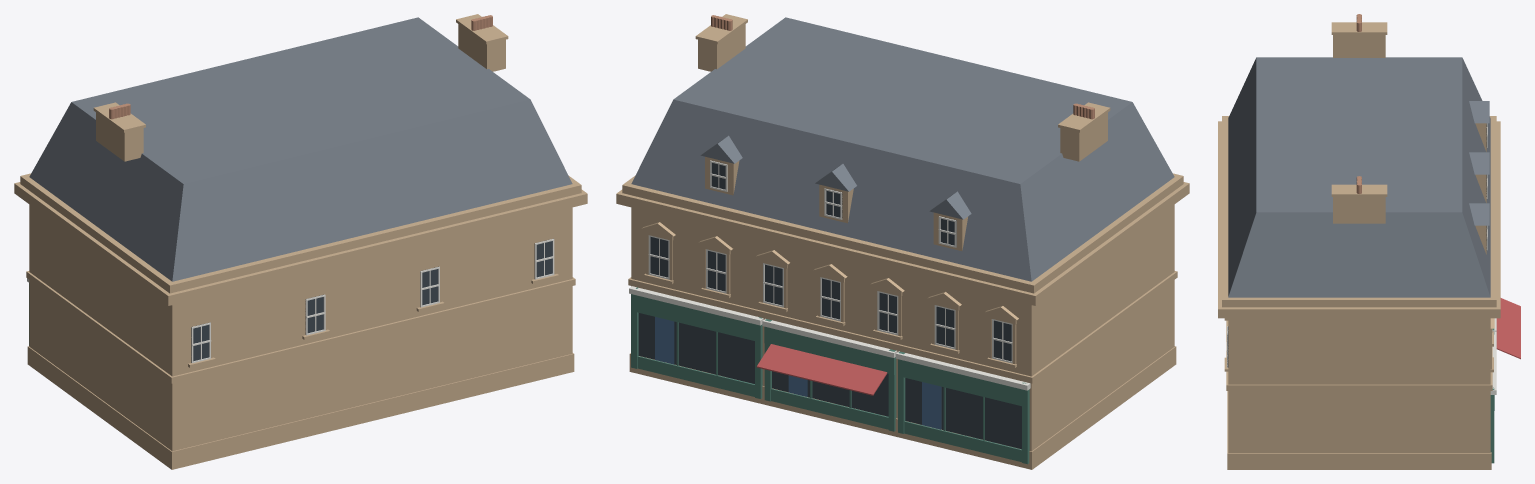
File: classical2_shops.glb
3 views of the same model, side by side, from view 1: azimuth 30°, elevation 25°; view 2: azimuth 150°, elevation 25°; view 3: azimuth 270°, elevation 25° (orthographic). The views are drawn at different scales.
Parts seen in each view (by area): view 1: classical2_shops; view 2: classical2_shops; view 3: classical2_shops.
Boxes of the visible parts, x1=… form: classical2_shops: x1=14, y1=14, x2=587, y2=469; classical2_shops: x1=616, y1=14, x2=1189, y2=469; classical2_shops: x1=1218, y1=14, x2=1520, y2=469.
Size of the model in its own units: 22 by 15.32 by 15.
